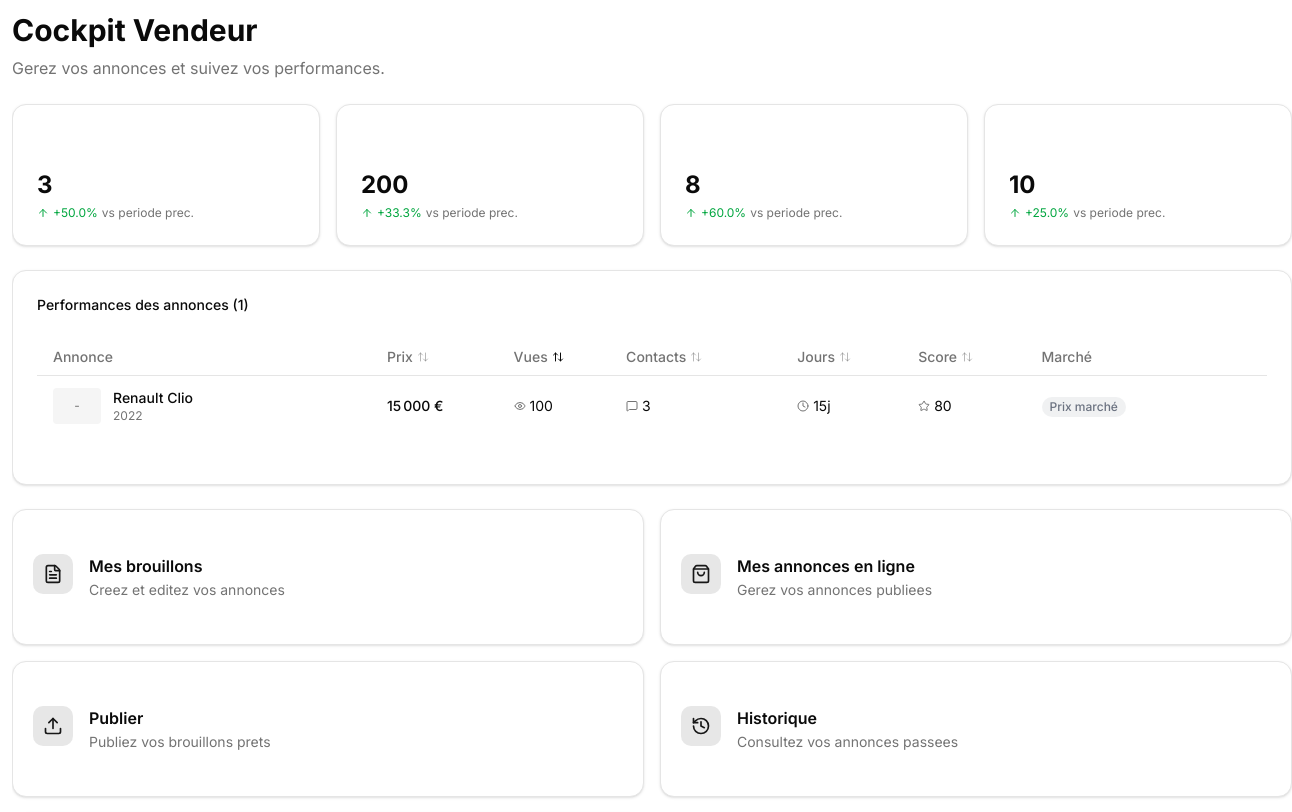
Scenario: SellerCockpitPage › closes market position detail when close button is clicked
The width and height of the screenshot is (1292, 812).
Expected: the element with test id "seller-listings-table" is shown, [12,270,1291,485]
Click the button with test id "market-badge-listing-1" at (1084, 406), box [1042,396,1126,416]
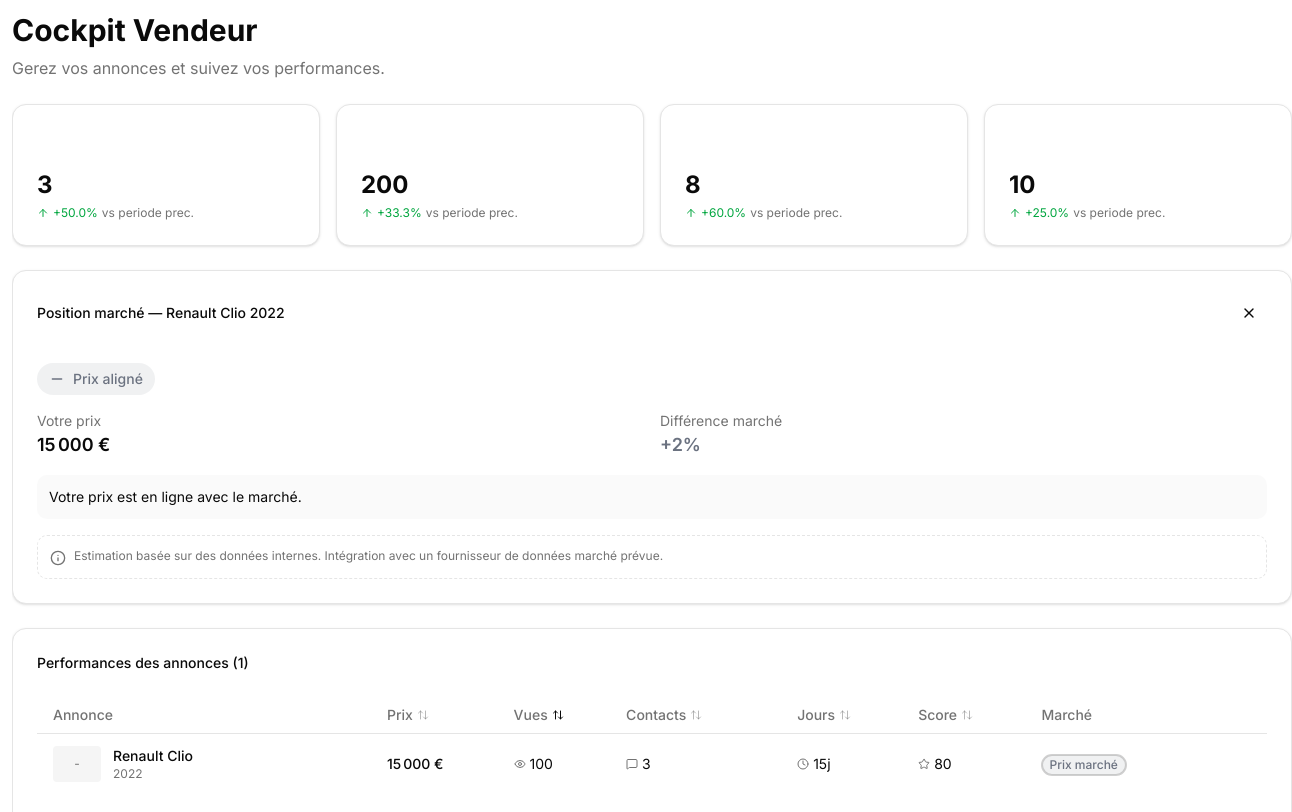
Result: the element with test id "market-position-detail" is shown at [12,270,1291,604]
Click the button with test id "market-detail-close" at (1249, 313), box [1231,295,1267,331]
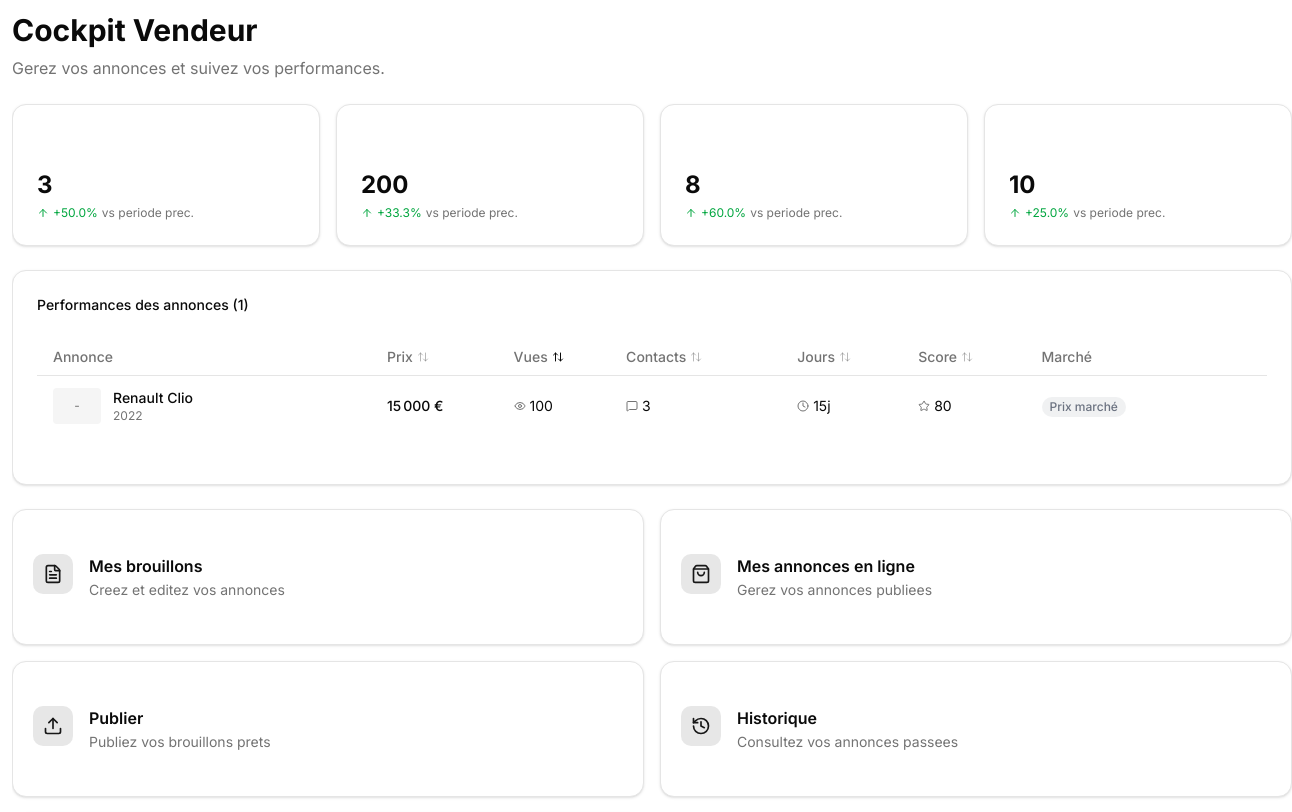
Result: the element with test id "market-position-detail" is gone
